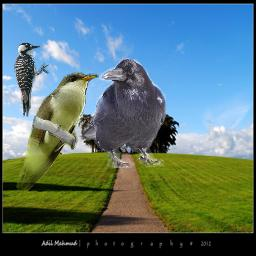Crow: (80, 57, 166, 168)
Cuckoo: (15, 72, 99, 195)
Woodpecker: (13, 42, 50, 117)
